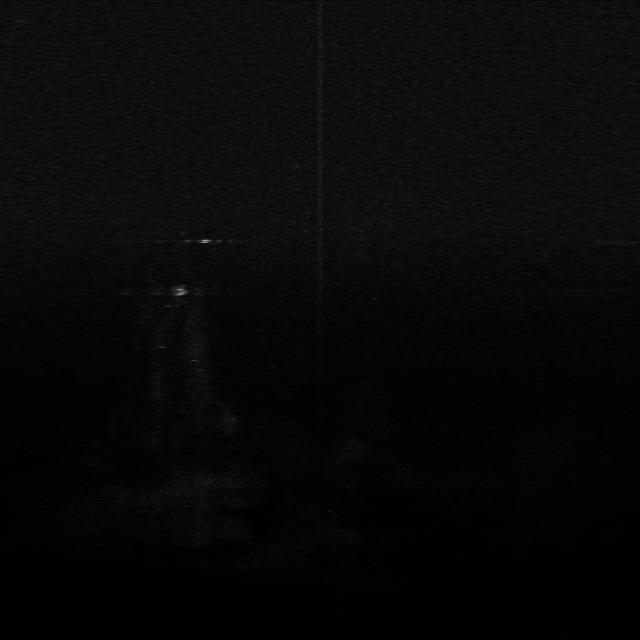rov: (170, 283, 190, 299)
